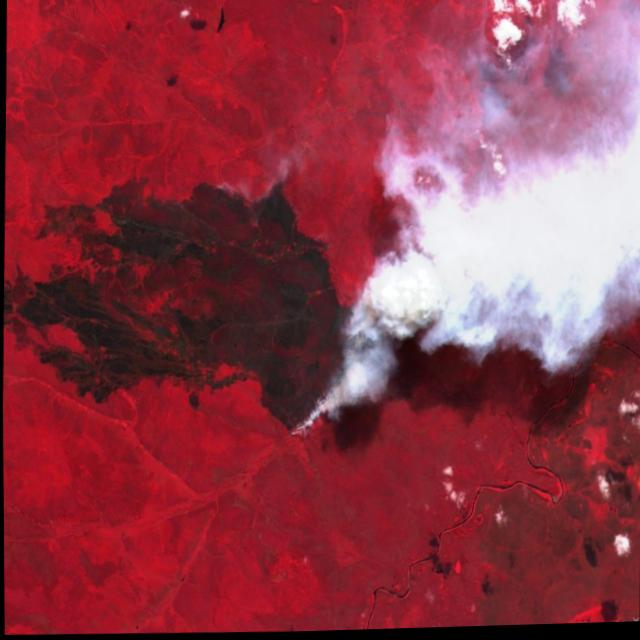fire: (280, 271, 391, 454)
